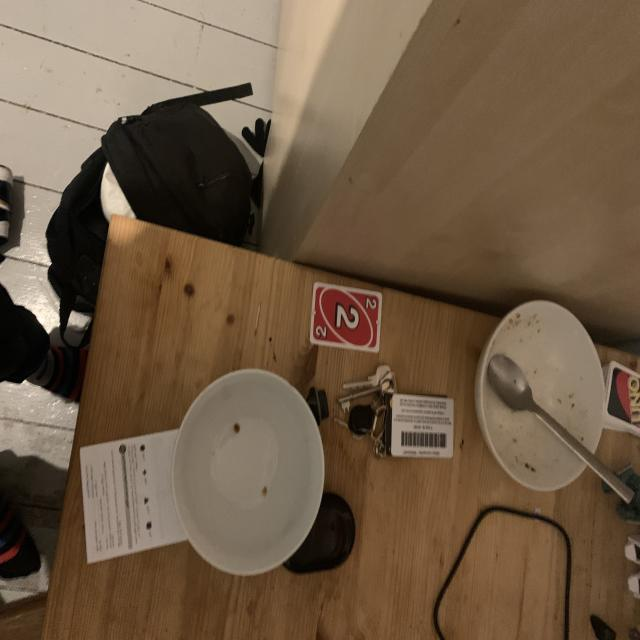lred-2: (315, 323, 329, 341)
